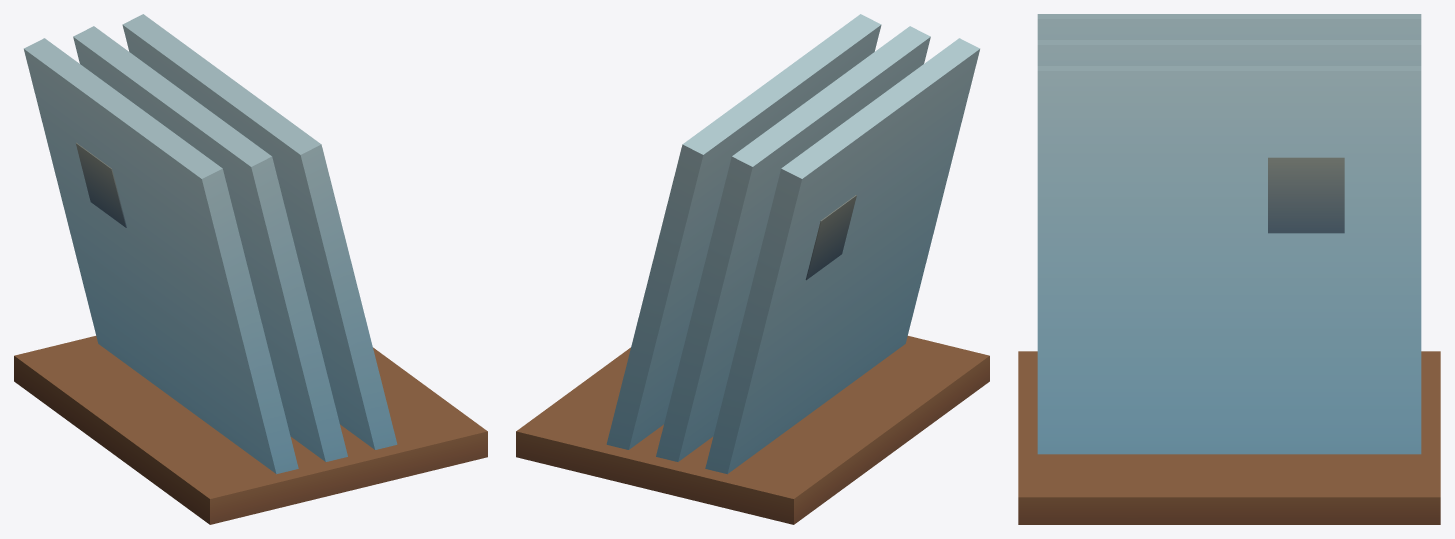
File: item_glass.glb
3 views of the same model, side by side, from view 1: azimuth 30°, elevation 25°; view 2: azimuth 150°, elevation 25°; view 3: azimuth 270°, elevation 25° (orthographic). The views are drawn at different scales.
Parts seen in each view (by area): view 1: item_glass; view 2: item_glass; view 3: item_glass.
Part boxes in pixels (x1,y1,x2,y2): item_glass: (14,14,487,524); item_glass: (516,14,989,524); item_glass: (1018,14,1440,524).
Size of the model in its own units: 0.9 by 1.07 by 1.1.
Materials: 1 (1 with a texture image).
